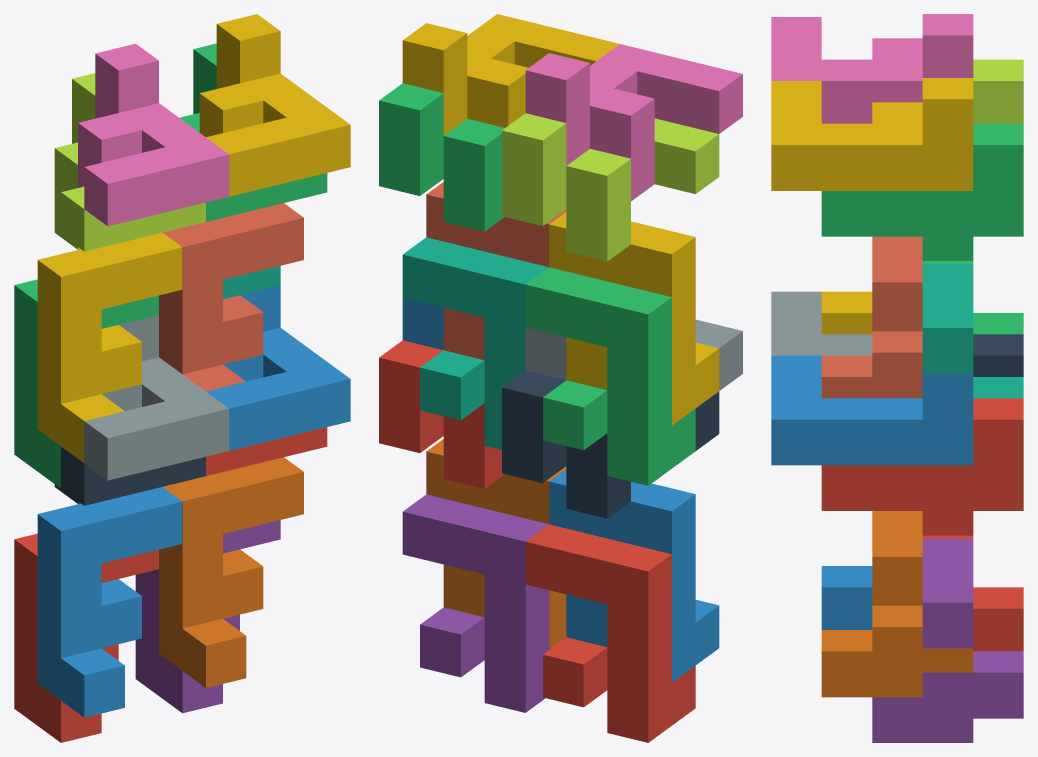
Rendered from tiling.obj.
3 renders of one model, left to right at view 1: azimuth 30°, elevation 25°; view 2: azimuth 150°, elevation 25°; view 3: azimuth 270°, elevation 25°, orthographic. The views are drawn at different scales.
Parts seen in each view (by area): view 1: copy_1_domain_2, copy_1_domain_6, copy_1_domain_4, copy_2_domain_4, copy_2_domain_8, copy_1_domain_8, copy_2_domain_2, copy_2_domain_6, copy_1_domain_1, copy_2_domain_3, copy_1_domain_3, copy_1_domain_5 (+4 smaller); view 2: copy_1_domain_1, copy_1_domain_3, copy_1_domain_5, copy_2_domain_4, copy_2_domain_3, copy_1_domain_7, copy_2_domain_8, copy_1_domain_4, copy_1_domain_2, copy_2_domain_7, copy_2_domain_1, copy_2_domain_5 (+4 smaller); view 3: copy_2_domain_8, copy_2_domain_6, copy_1_domain_5, copy_1_domain_6, copy_2_domain_5, copy_2_domain_7, copy_2_domain_4, copy_1_domain_8, copy_1_domain_7, copy_2_domain_2, copy_1_domain_1, copy_1_domain_2 (+4 smaller).
Boxes of the visible parts, x1,y1,x2,y2 form: copy_1_domain_2: (37,487,182,717); copy_1_domain_6: (159,457,303,687); copy_1_domain_4: (37,232,182,462); copy_2_domain_4: (78,43,229,226); copy_2_domain_8: (199,14,350,196); copy_1_domain_8: (159,203,303,391); copy_2_domain_2: (84,315,229,480); copy_2_domain_6: (206,285,350,450); copy_1_domain_1: (14,533,158,742); copy_2_domain_3: (54,73,205,251); copy_1_domain_3: (14,279,158,488); copy_1_domain_5: (135,520,280,713); copy_1_domain_1: (525,524,695,742); copy_1_domain_3: (525,267,695,485); copy_1_domain_5: (402,494,549,712); copy_2_domain_4: (525,44,742,201); copy_2_domain_3: (502,113,719,261); copy_1_domain_7: (402,237,548,449); copy_2_domain_8: (402,14,619,135); copy_1_domain_4: (549,212,719,425); copy_1_domain_2: (549,469,719,682); copy_2_domain_7: (379,83,504,231); copy_2_domain_1: (502,370,719,518); copy_2_domain_5: (379,340,504,488); copy_2_domain_8: (771,78,973,190); copy_2_domain_6: (771,355,973,465); copy_1_domain_5: (872,538,1023,742); copy_1_domain_6: (821,511,973,697); copy_2_domain_5: (821,398,1023,535); copy_2_domain_7: (821,123,1023,260); copy_2_domain_4: (771,14,973,123); copy_1_domain_8: (821,236,922,398); copy_1_domain_7: (922,264,1023,398); copy_2_domain_2: (771,291,872,355); copy_1_domain_1: (922,535,1023,651); copy_1_domain_2: (821,566,872,629).
Bounding box in the file's own units: 6 × 15 × 5.
